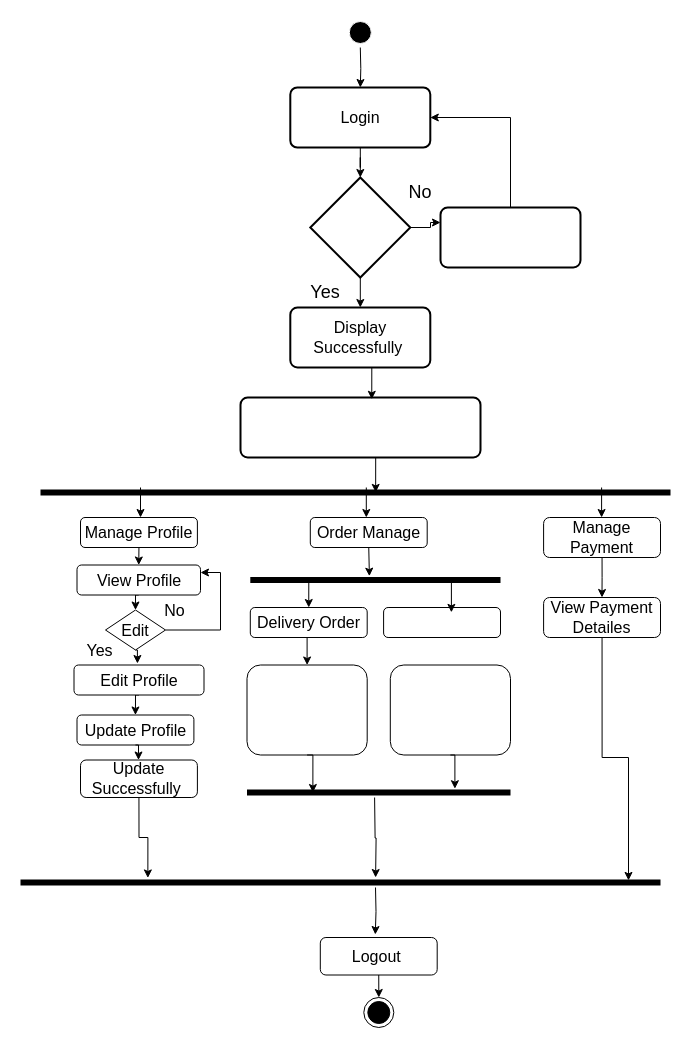
This 690x1045 diagram has some shape labels left out. The shapes that lost their labels are listed below. From the top down, each one's box as (x1, y1, x2, y2) in pixels, then its label:
(309, 176, 411, 278): Valid ?
(439, 206, 581, 268): Display Incorrect Info
(239, 396, 481, 458): Display Delivery Partner Dashboard
(383, 606, 500, 638): Return Order
(246, 664, 367, 755): Update Status to Out Of Delivery
(389, 664, 510, 755): Update Statues to Returned
